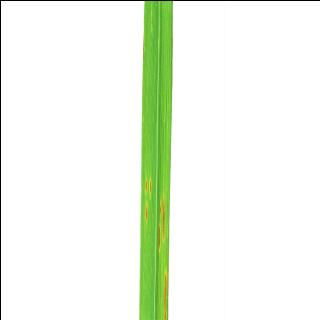Bercak-Cokelat-Sempit: (161, 265, 167, 320), (161, 192, 165, 241), (156, 221, 160, 253), (144, 199, 148, 228), (147, 171, 151, 199), (143, 170, 147, 196), (159, 199, 161, 218)
